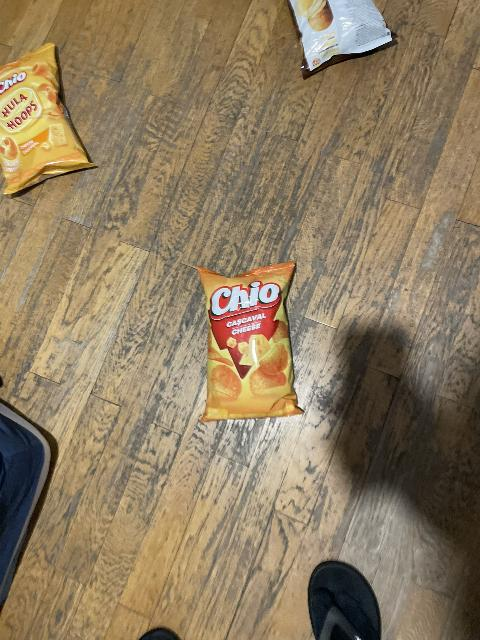Chio Cascaval 125g: (195, 261, 304, 420)
Chio Hula Hoops Cheese 70g: (0, 43, 99, 195)
Lays Beef Grilled Ribs 125g: (286, 1, 392, 78)
